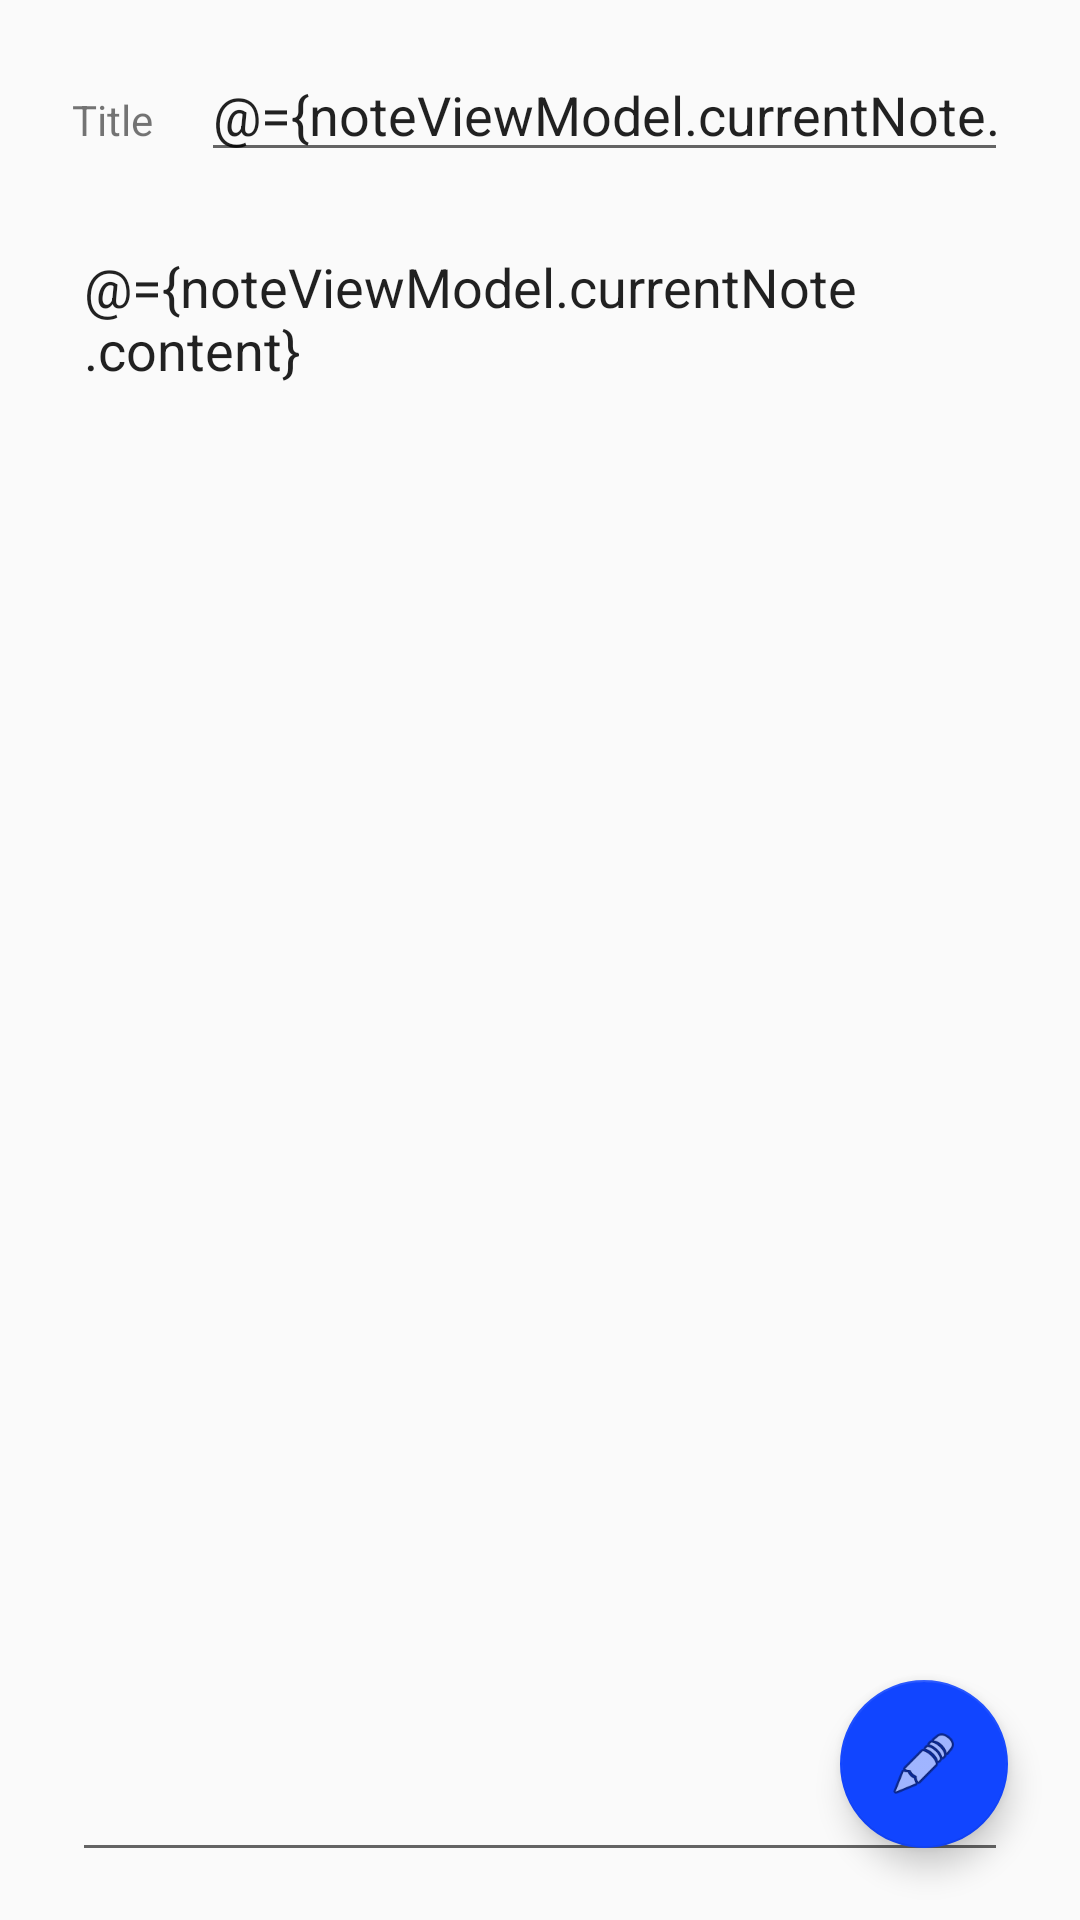

Icon bounding boxes for this 1080 × 1920 phone screenshot, format (x1, y1, x2, y2):
edit: (840, 1680, 1008, 1848)
